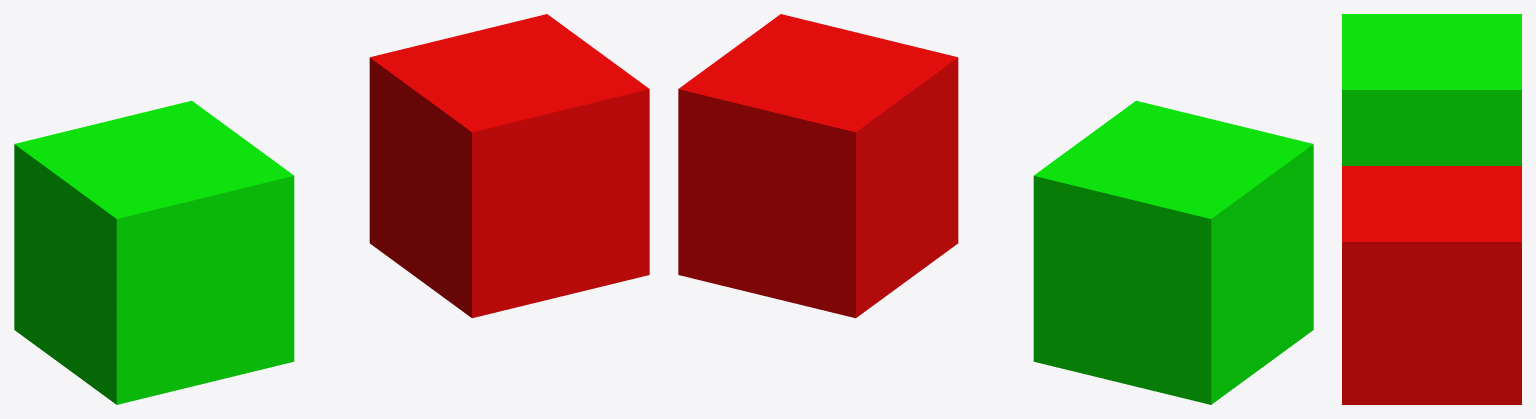
The model's file is cubes.gltf.
The picture shows the model from 3 angles, left to right: view 1: azimuth 30°, elevation 25°; view 2: azimuth 150°, elevation 25°; view 3: azimuth 270°, elevation 25°; orthographic projection. The views are drawn at different scales.
Visible parts, largest first — view 1: Cube2, Cube1; view 2: Cube2, Cube1; view 3: Cube1, Cube2.
Part boxes in pixels (x1,y1,x2,y2): Cube2: (14, 100, 294, 404); Cube1: (369, 14, 649, 318); Cube2: (1033, 100, 1313, 404); Cube1: (678, 14, 958, 318); Cube1: (1342, 166, 1521, 404); Cube2: (1342, 14, 1521, 165).
Bounding box in the file's own units: 6 × 2 × 2.
